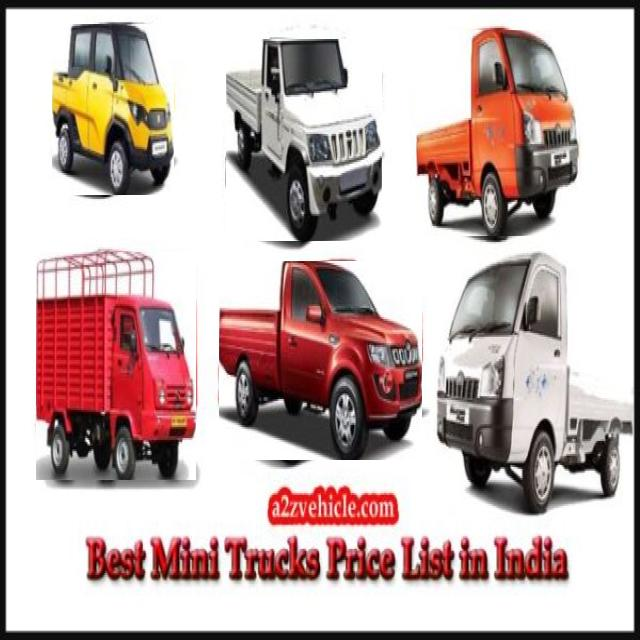car: (52, 24, 174, 195)
truck: (438, 253, 632, 512), (219, 262, 422, 460), (36, 253, 196, 480), (416, 30, 579, 236), (226, 39, 382, 241)
